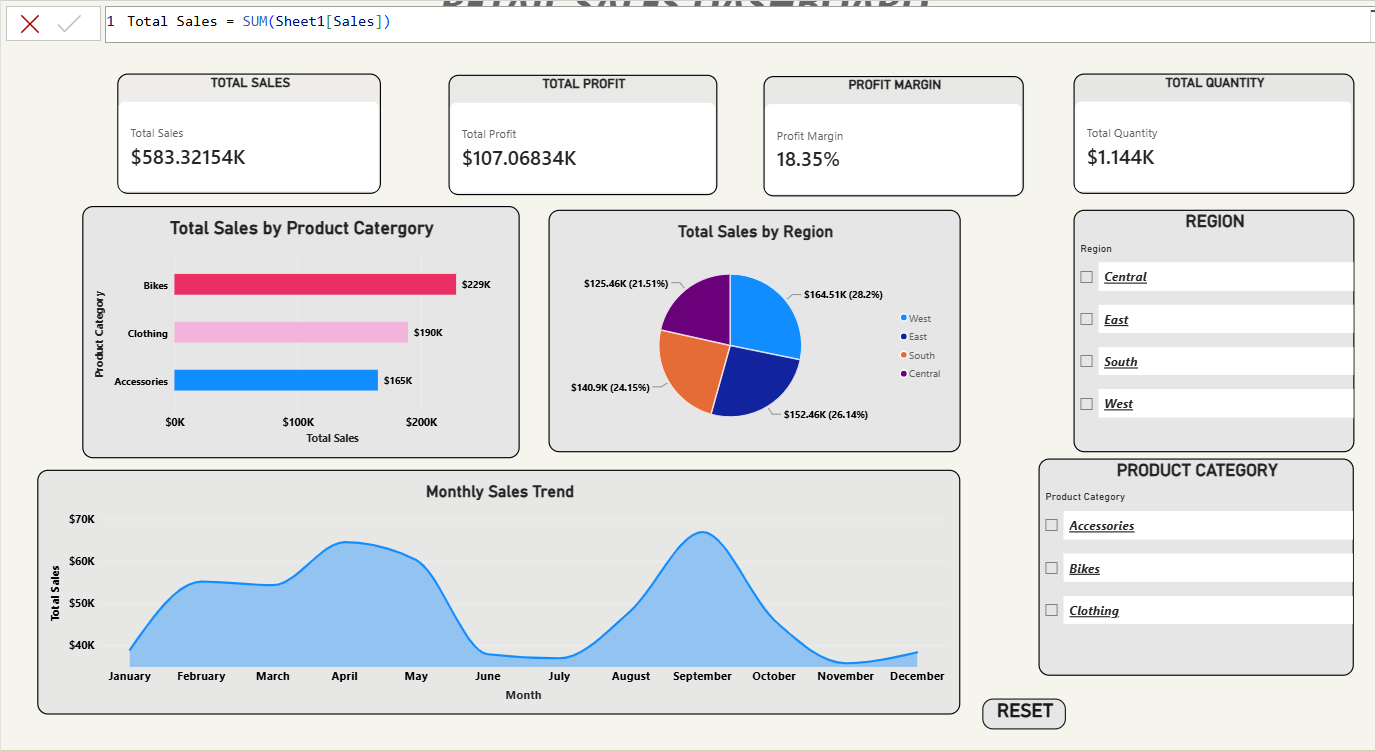

This screenshot's page, from the dashboard's own definition file:
{"tool":"powerbi","page":{"name":"Page 1","canvas":[1920,1080],"ordinal":0},"visuals":[{"type":"textbox","box":[612.2,0,727.3,87.2],"z":0},{"type":"cardVisual","title":"TOTAL SALES","fields":{"Data":["Sheet1.Total Sales"]},"box":[161.7,136.7,368.3,168.3],"z":1},{"type":"cardVisual","title":"TOTAL PROFIT","fields":{"Data":["Sheet1.Total Profit"]},"box":[625,138.3,375,168.3],"z":2},{"type":"cardVisual","title":"PROFIT MARGIN","fields":{"Data":["Sheet1.Profit Margin"]},"box":[1063.3,140,363.3,168.3],"z":3},{"type":"cardVisual","title":"TOTAL QUANTITY","fields":{"Data":["Sheet1.Total Quantity"]},"box":[1496.7,136.7,391.7,168.3],"z":4},{"type":"clusteredBarChart","title":"Total Sales by Product Catergory","fields":{"Category":["Sheet1.Product Category"],"Y":["Sheet1.Total Sales"]},"box":[113.3,321.7,610,351.7],"z":5},{"type":"pieChart","title":"Total Sales by Region","fields":{"Category":["Sheet1.Region"],"Y":["Sheet1.Total Sales"]},"box":[763.3,326.7,575,338.3],"z":6},{"type":"areaChart","title":"Monthly Sales Trend","fields":{"Category":["Sheet1.Order Date.Variation.Date Hierarchy.Month"],"Y":["Sheet1.Total Sales"]},"box":[50,688.3,1288.3,341.7],"z":7},{"type":"slicer","title":"PRODUCT CATEGORY","fields":{"Values":["Sheet1.Product Category"]},"box":[1448.3,673.3,440,303.3],"z":9},{"type":"actionButton","title":"RESET","box":[1368.3,1008.3,116.7,43.3],"z":10},{"type":"slicer","title":"REGION","fields":{"Values":["Sheet1.Region"]},"box":[1497,327,392,338],"z":11}]}

Visuals, with their boxes in screenshot pixels (x1, y1, x2, y2):
textbox: x1=439 y1=0 x2=957 y2=37
"TOTAL SALES" cardVisual: x1=119 y1=72 x2=381 y2=192
"TOTAL PROFIT" cardVisual: x1=448 y1=73 x2=715 y2=193
"PROFIT MARGIN" cardVisual: x1=761 y1=75 x2=1019 y2=194
"TOTAL QUANTITY" cardVisual: x1=1069 y1=72 x2=1348 y2=192
"Total Sales by Product Catergory" clusteredBarChart: x1=84 y1=204 x2=518 y2=454
"Total Sales by Region" pieChart: x1=547 y1=207 x2=956 y2=448
"Monthly Sales Trend" areaChart: x1=39 y1=465 x2=956 y2=708
"PRODUCT CATEGORY" slicer: x1=1035 y1=454 x2=1348 y2=670
"RESET" actionButton: x1=978 y1=693 x2=1061 y2=724
"REGION" slicer: x1=1069 y1=208 x2=1348 y2=448
